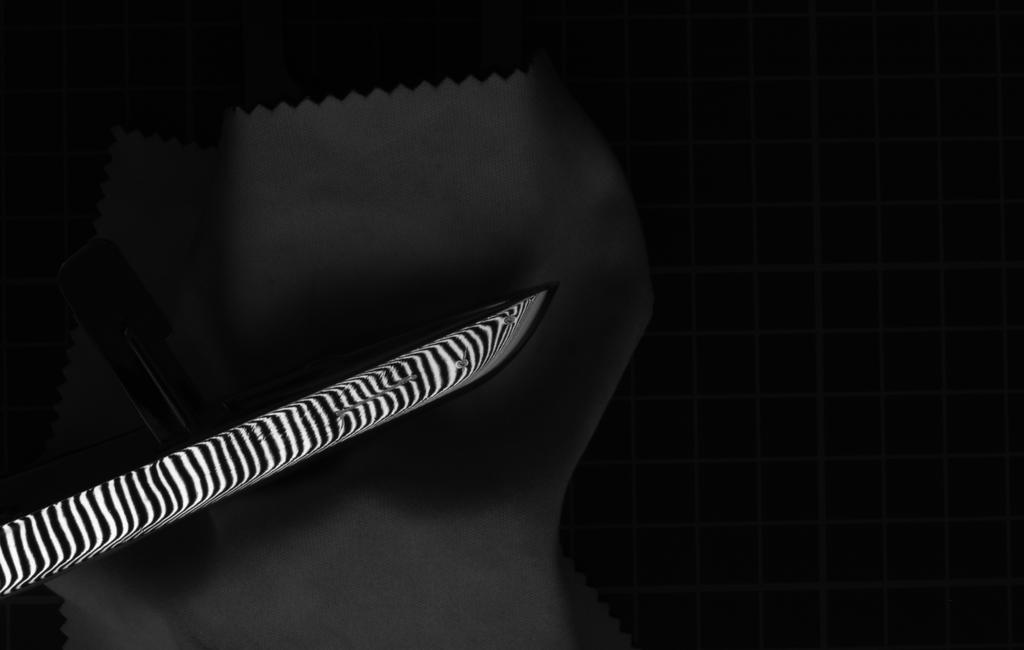Pierced: (450, 350, 473, 374), (499, 310, 520, 329)
Scratch: (326, 364, 426, 430)
